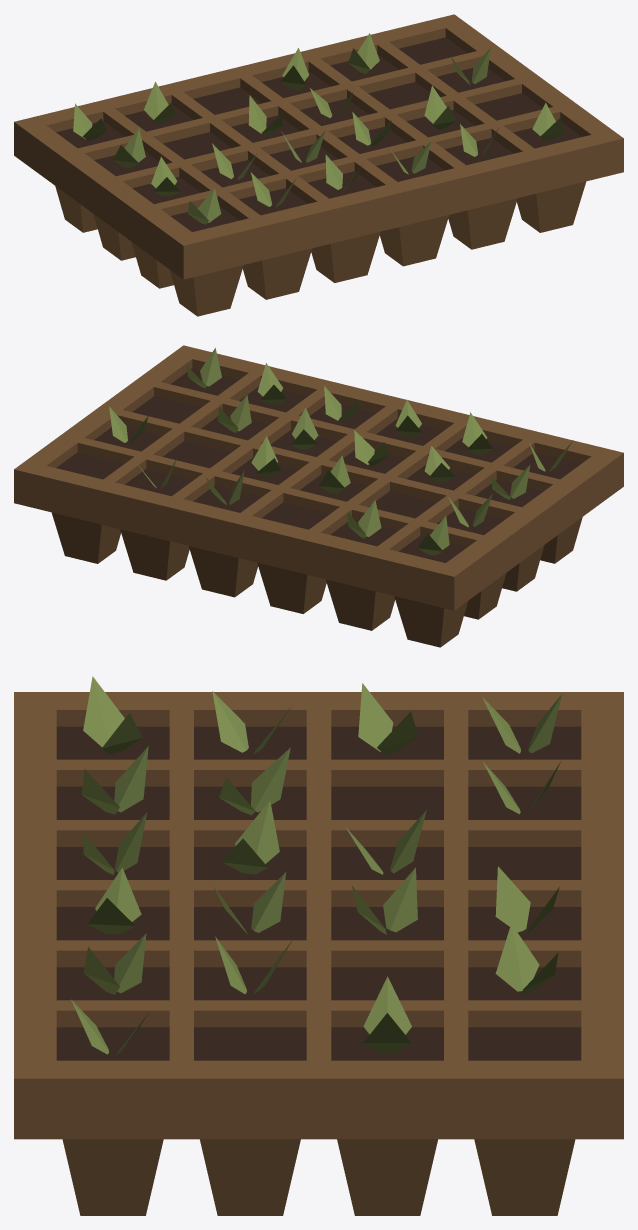
File: seedling-tray-116925.glb
The picture shows the model from 3 angles, top to bottom: view 1: azimuth 30°, elevation 25°; view 2: azimuth 150°, elevation 25°; view 3: azimuth 270°, elevation 25°; orthographic projection. The views are drawn at different scales.
Parts seen in each view (by area): view 1: seedling-tray; view 2: seedling-tray; view 3: seedling-tray.
Boxes of the visible parts, bbox=[...] form: seedling-tray: bbox=[14, 14, 623, 316]; seedling-tray: bbox=[14, 345, 623, 647]; seedling-tray: bbox=[14, 676, 623, 1215].
Bounding box in the file's own units: 0.6 × 0.1509 × 0.4.
